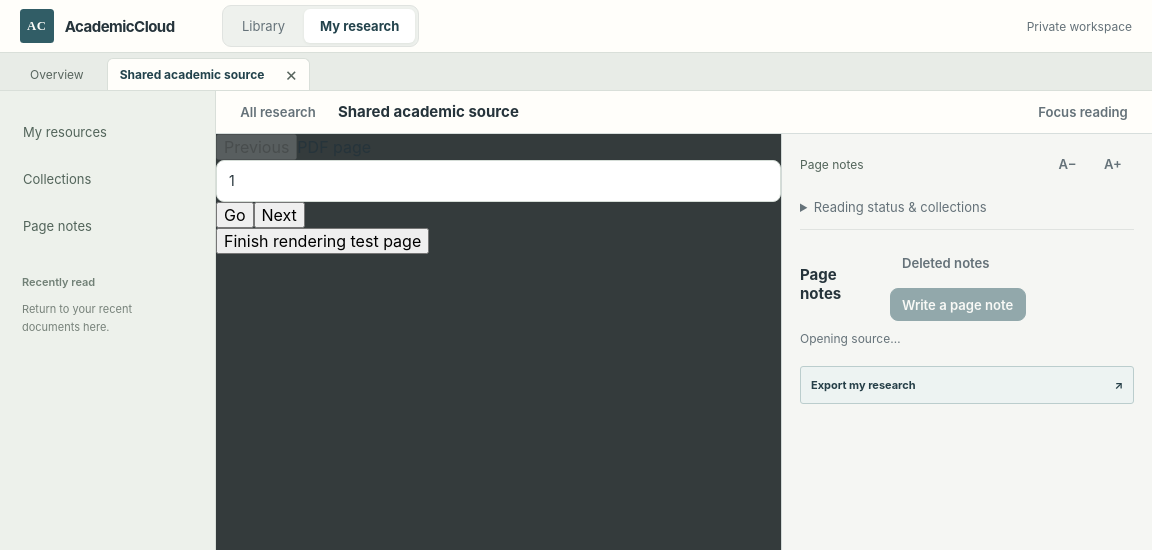
it: private workspace › renders the source independently of slow notes and only enables writing after the visible page completes
Expected: the element with test id "pdf-reader" is shown, [216, 134, 781, 254]
Expected: the button "Write a page note" is disabled, [890, 288, 1026, 321]
What coordinates should you click on to do the following:
click the button "Finish rendering test page"
I would click on:
 (323, 241)
Its box is [216, 228, 429, 254].
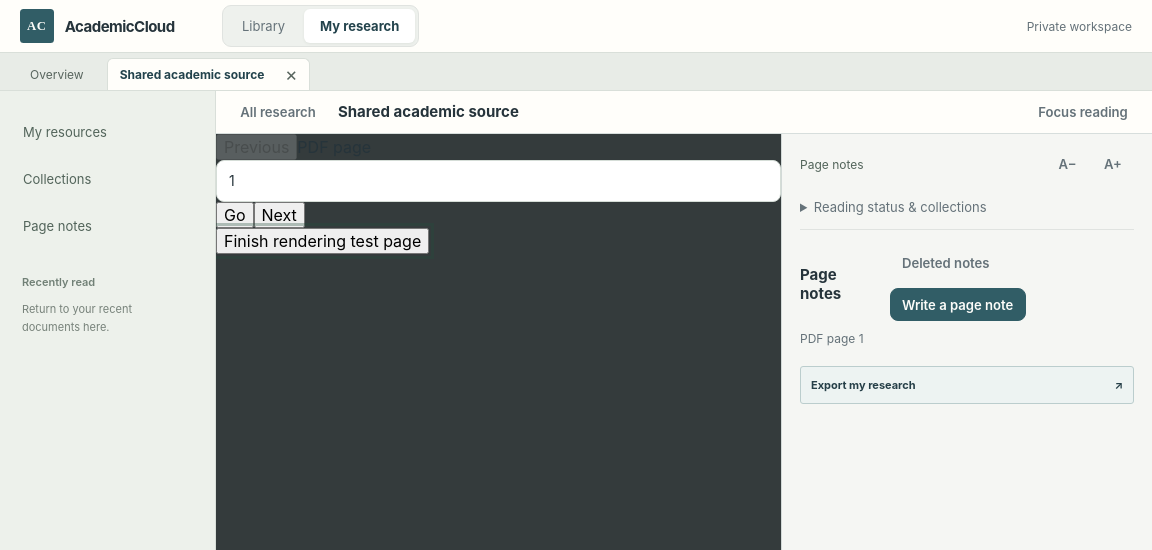
Expected: the button "Write a page note" is enabled, [890, 288, 1026, 321]
What coordinates should you click on to do the following:
click the button with aria-label "Next page"
I would click on:
 (279, 215)
Its box is [254, 202, 305, 228].
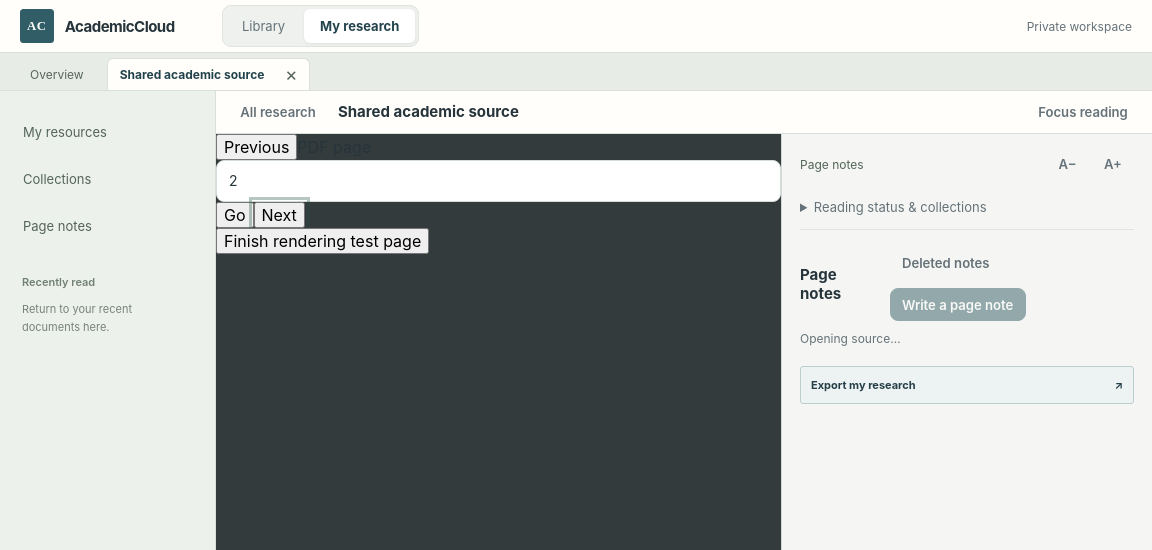
Expected: the button "Write a page note" is disabled, [890, 288, 1026, 321]
What coordinates should you click on to do the following:
click the button "Finish rendering test page"
I would click on:
 (323, 241)
Its box is [216, 228, 429, 254].
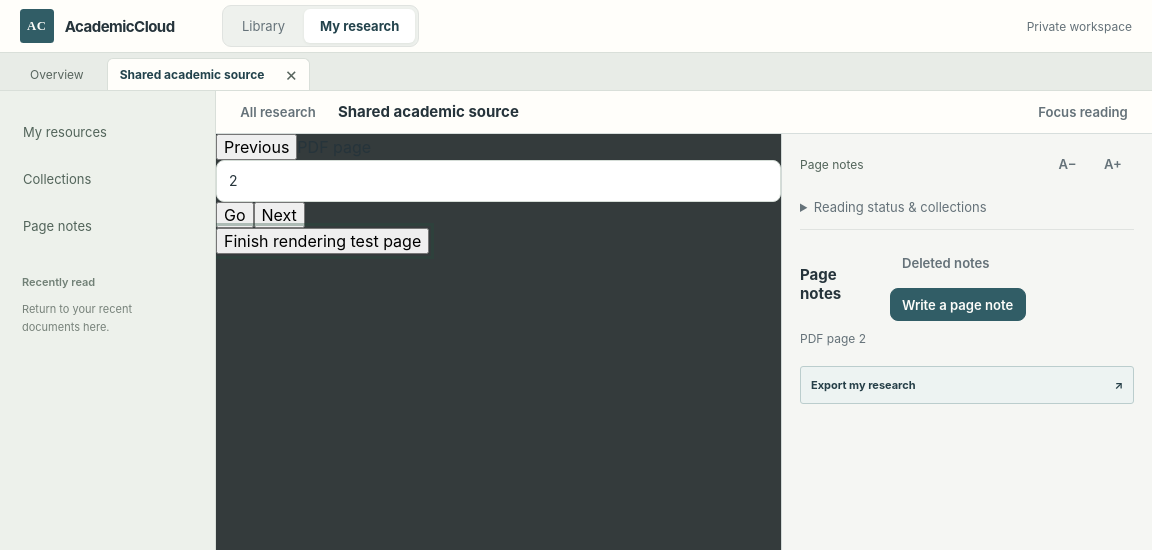
What coordinates should you click on to do the following:
click the button "Write a page note"
I would click on:
 (958, 305)
Its box is [890, 288, 1026, 321].
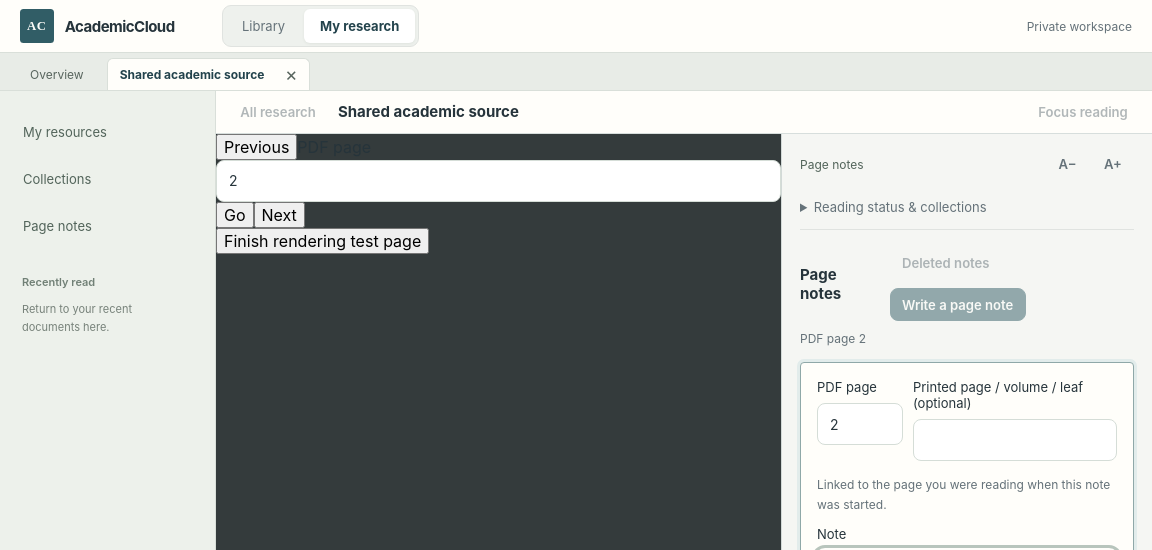
Expected: the number field labelled "PDF page" below "Printed page / volume / leaf (optional)" holds "2", [817, 403, 903, 445]
Expected: the number field labelled "PDF page" below "Printed page / volume / leaf (optional)" is disabled, [817, 403, 903, 445]
